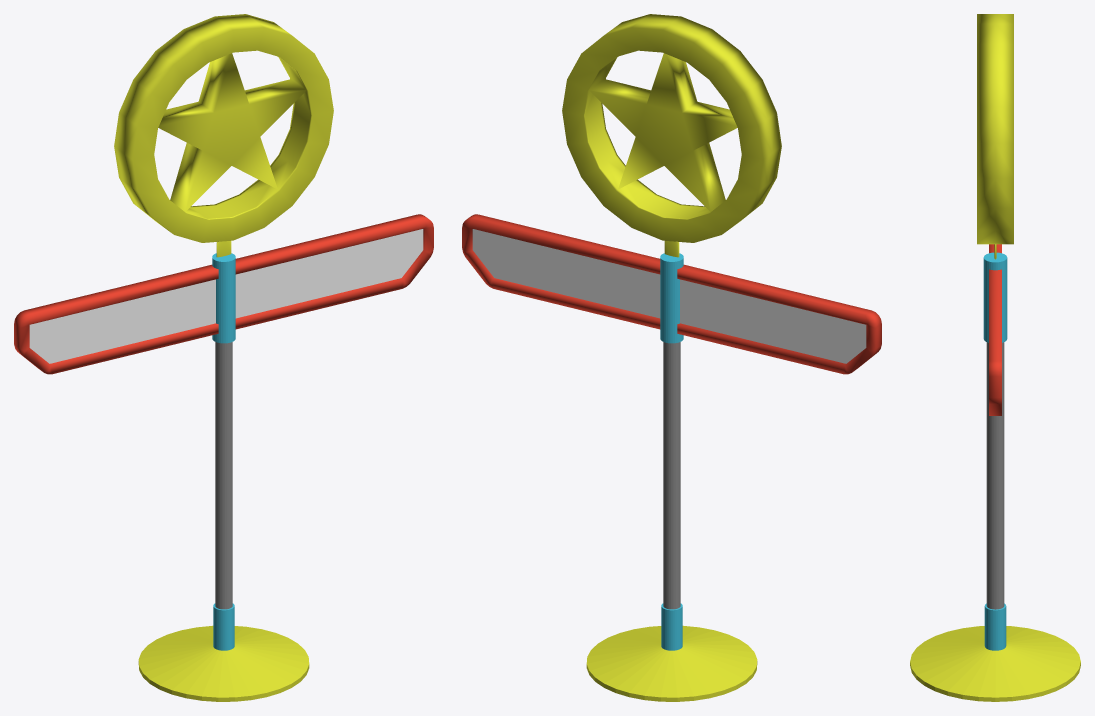
File: EndPost.fbx
3 views of the same model, side by side, from view 1: azimuth 30°, elevation 25°; view 2: azimuth 150°, elevation 25°; view 3: azimuth 270°, elevation 25° (orthographic).
Visible parts, largest first — view 1: Topper, Sign, Bar; view 2: Topper, Sign, Bar; view 3: Bar, Topper, Sign.
Boxes of the visible parts, x1,y1,x2,y2 form: Topper: [114, 14, 333, 257]; Sign: [14, 214, 433, 374]; Bar: [138, 253, 309, 701]; Topper: [562, 14, 781, 257]; Sign: [462, 214, 881, 374]; Bar: [586, 253, 757, 701]; Bar: [910, 252, 1080, 701]; Topper: [977, 14, 1013, 259]; Sign: [989, 244, 1001, 415].
Bounding box in the file's own units: 212 × 314 × 75.77.
